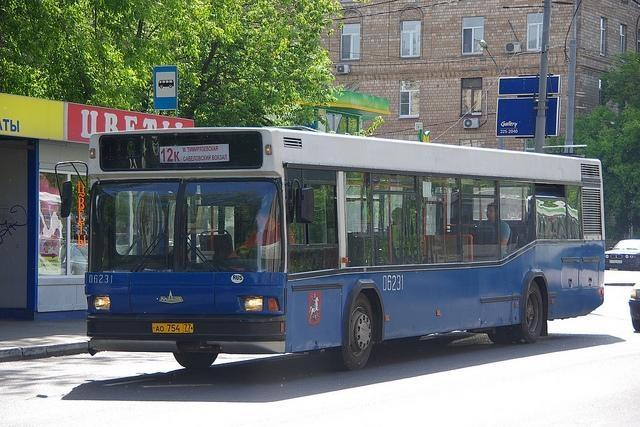bus: (81, 128, 610, 368)
car: (605, 239, 640, 272), (628, 274, 640, 332)
